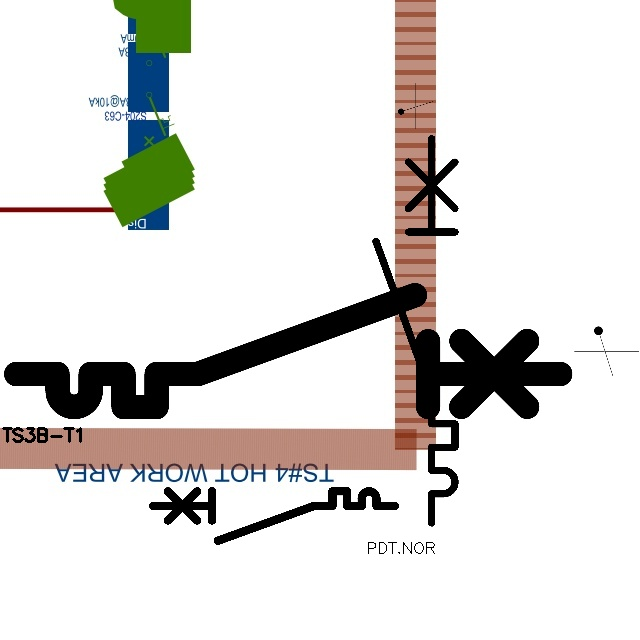interruptor_termomagnetico: (2, 281, 574, 421), (366, 128, 465, 532), (147, 485, 401, 547)
